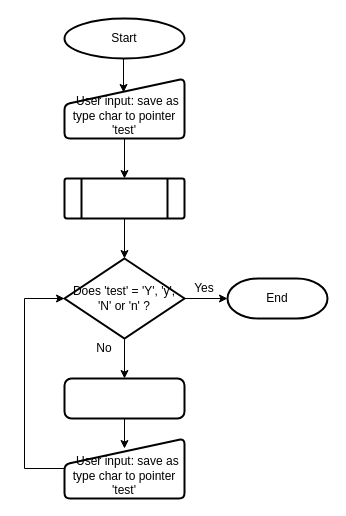
Image size: 346x516. Some labels were removed from this diagram. Here are the shapes that lost their labels. From the top down, the box of each, then its label:
(63, 177, 185, 219): fflush(stdin)
(63, 377, 185, 419): Display error message
